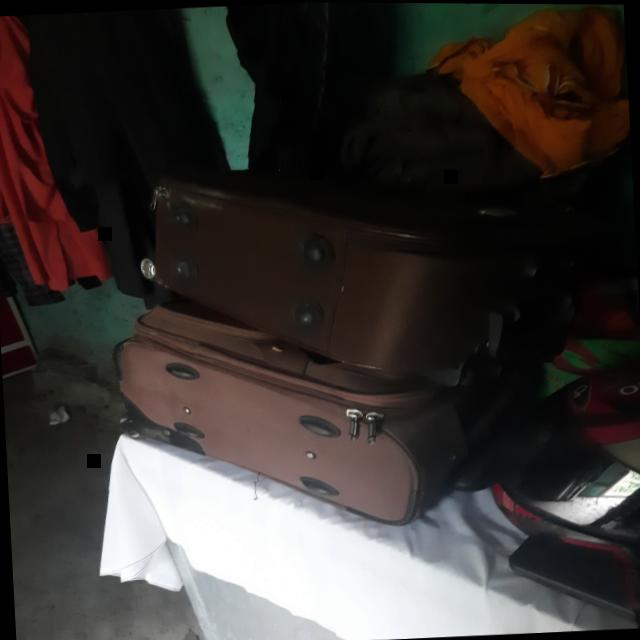luggage: (114, 299, 544, 527), (140, 178, 585, 386)
